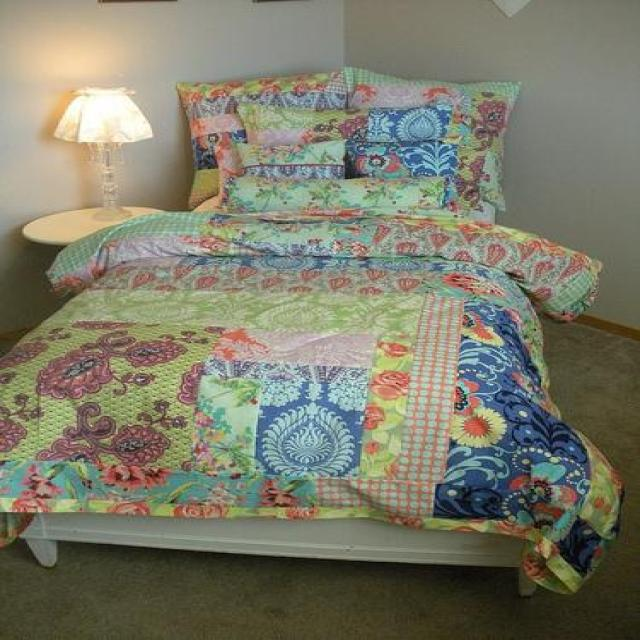bed: (4, 63, 621, 605)
